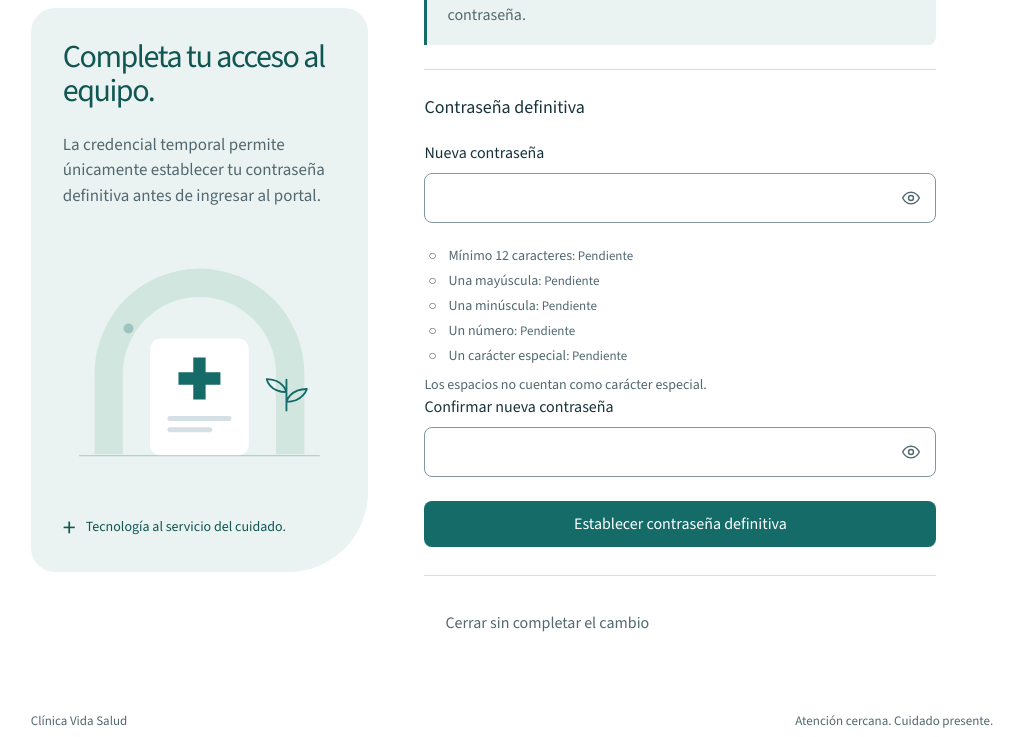
Test: cambio obligatorio temporal › cierre explícito informa invalidación de temporal antes de confirmarse en servidor
(page scrolled)
What coordinates should you click on to do the following:
click the button "Cerrar sin completar el cambio"
I would click on:
 (547, 624)
Its box is [424, 600, 670, 647].
(page scrolled)
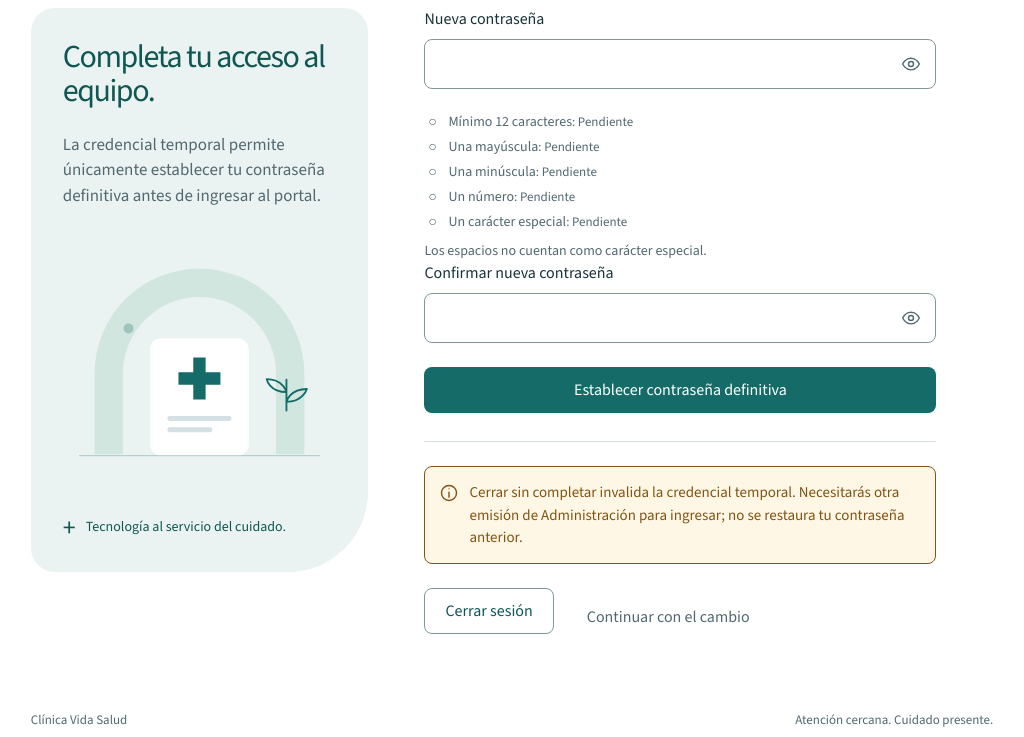
Expected: the message shows "invalida la credencial temporal", [469, 482, 904, 547]
What coordinates should you click on to do the following:
click the button "Cerrar sesión"
I would click on:
 (489, 611)
Its box is [424, 588, 554, 634].
(page scrolled)
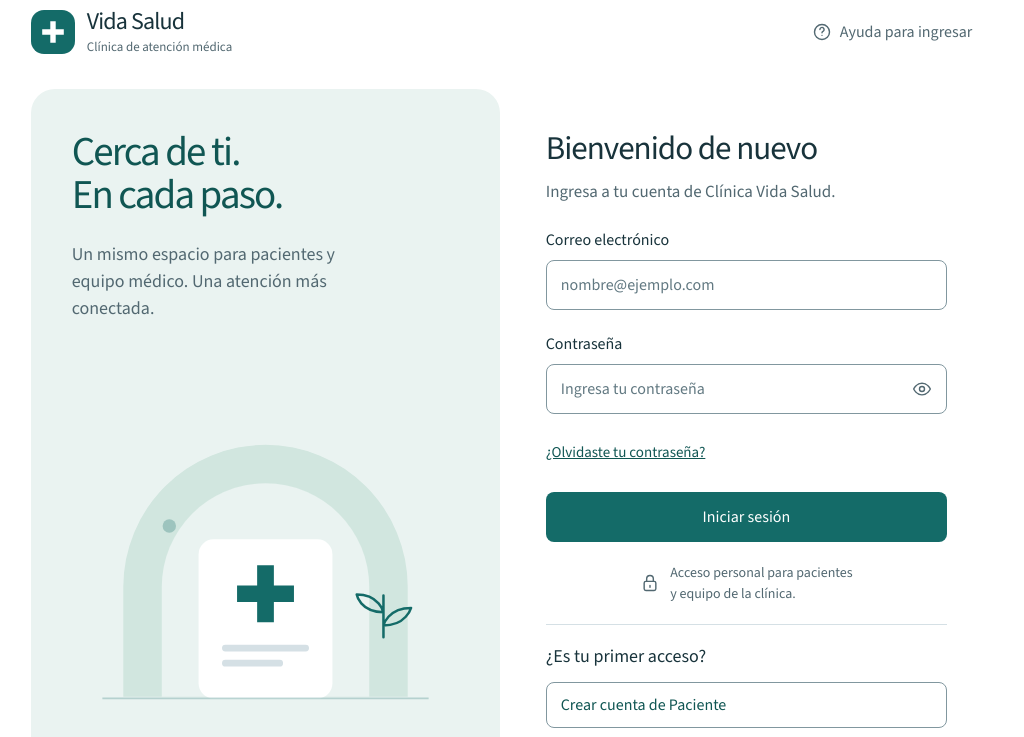
Expected: the heading "Bienvenido de nuevo" is shown, [546, 126, 817, 170]
